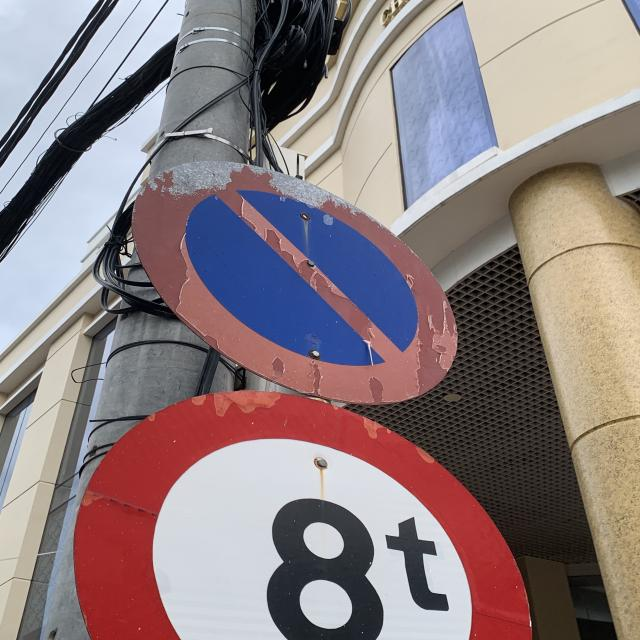Cam_Dau_Xe: (133, 165, 460, 404)
